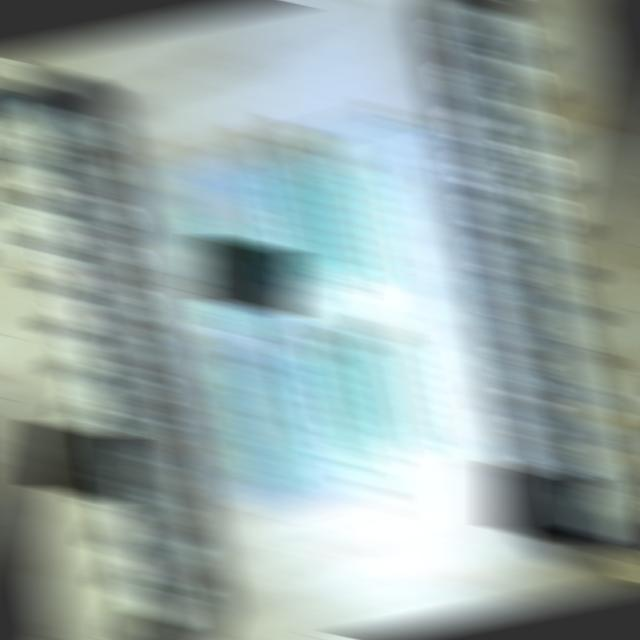Flathead_Block: (0, 67, 216, 640)
Phillips_Block: (435, 0, 640, 571)
Terminal_1: (187, 208, 258, 340), (222, 362, 291, 490)
Terminal_2: (255, 171, 324, 297), (289, 162, 358, 287), (292, 347, 361, 470), (362, 327, 428, 450), (328, 338, 394, 460)
